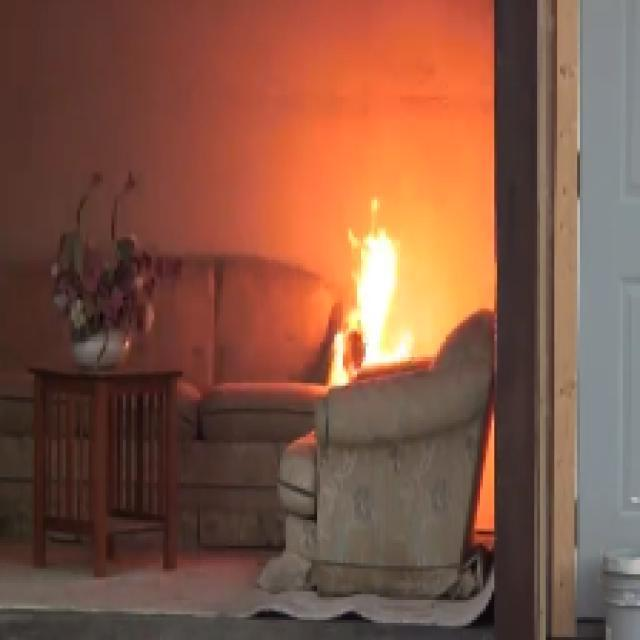Fire: (339, 222, 417, 370)
